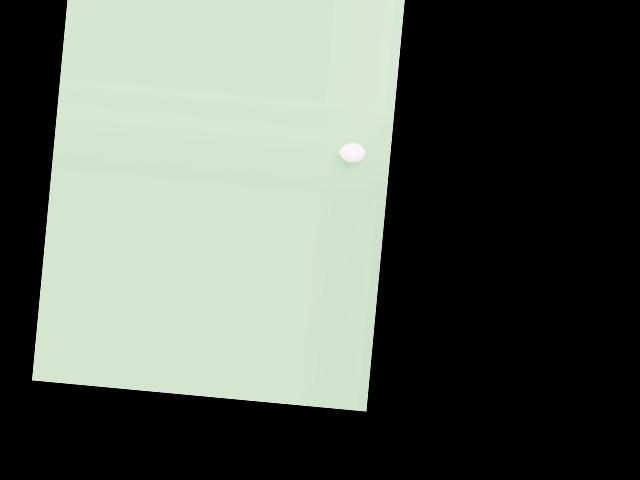egg: (338, 141, 366, 163)
